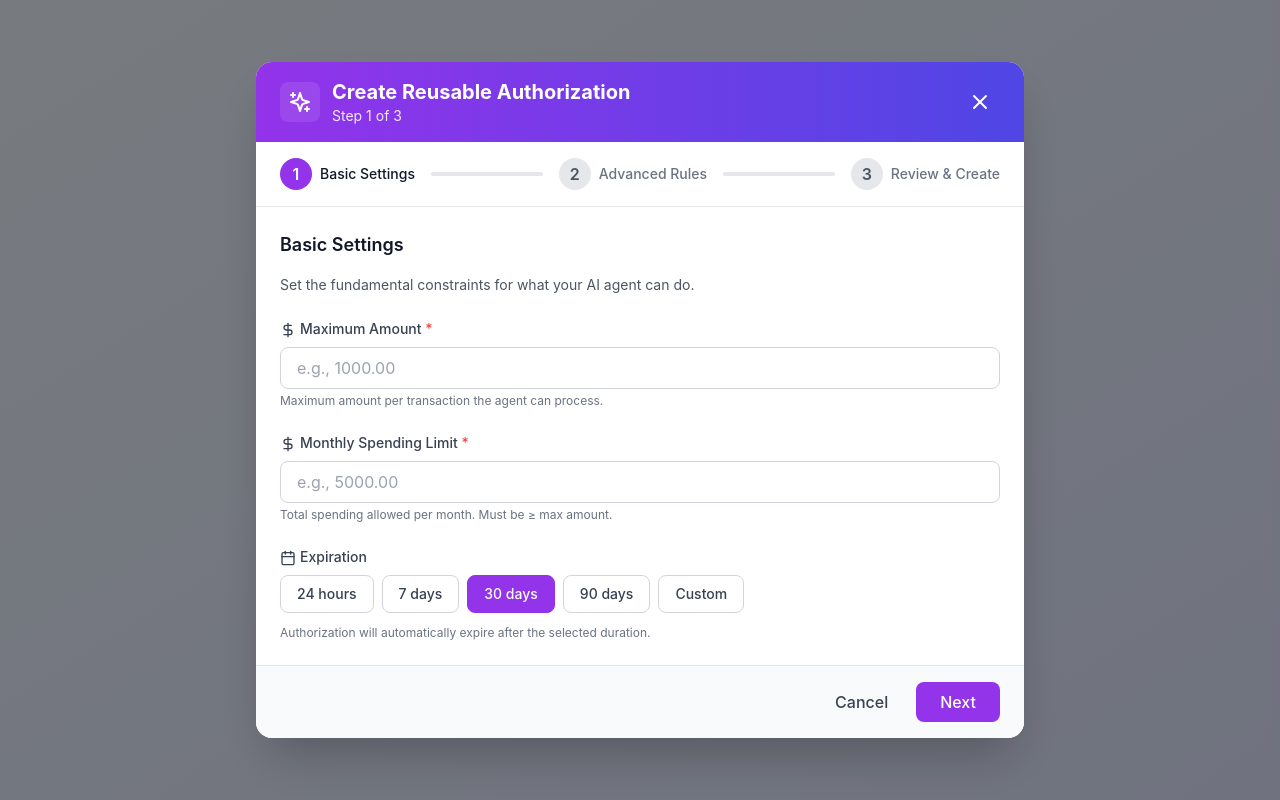
Scenario: AP2 Components › ConstraintBuilder › should allow adding merchants
# Fill required fields before navigating
In the number field with placeholder "e.g., 1000.00": x=640, y=368 [280,347,1000,389], type "500"
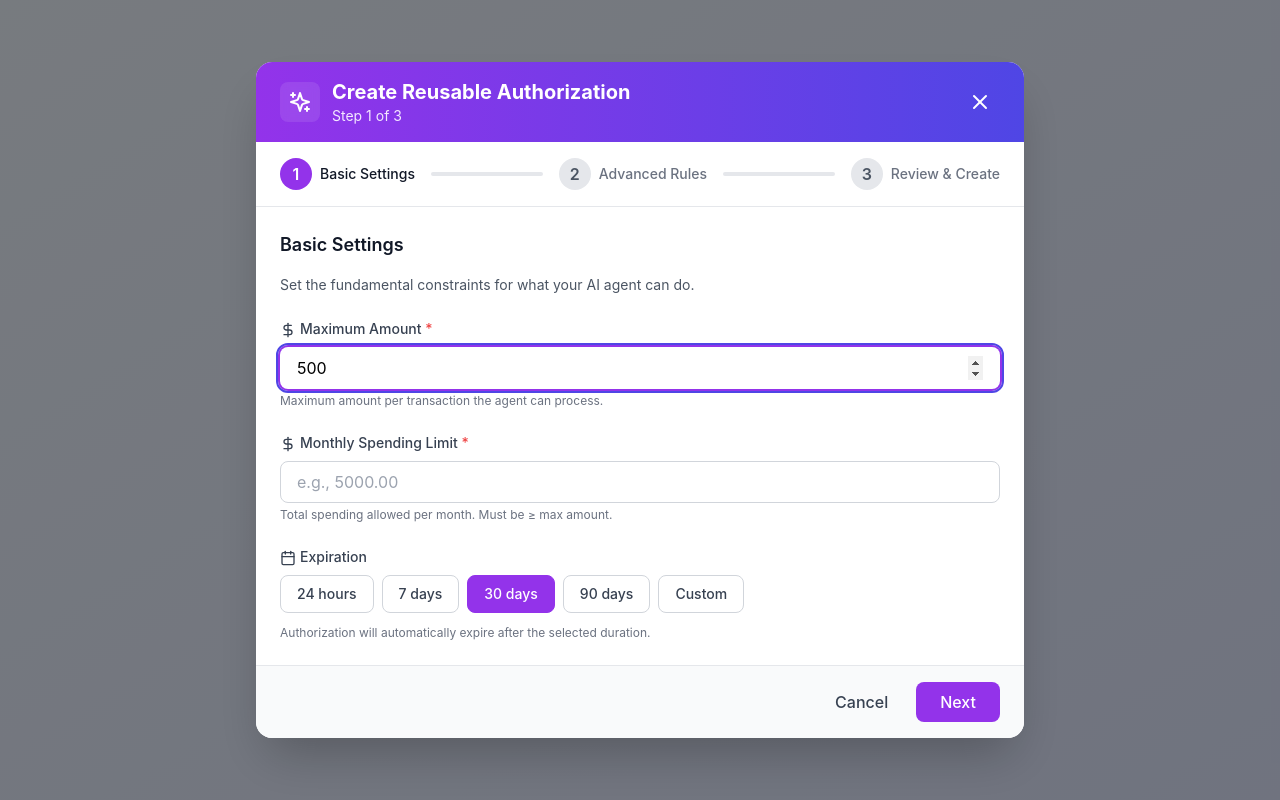
In the number field with placeholder "e.g., 5000.00": x=640, y=482 [280,461,1000,503], type "5000"
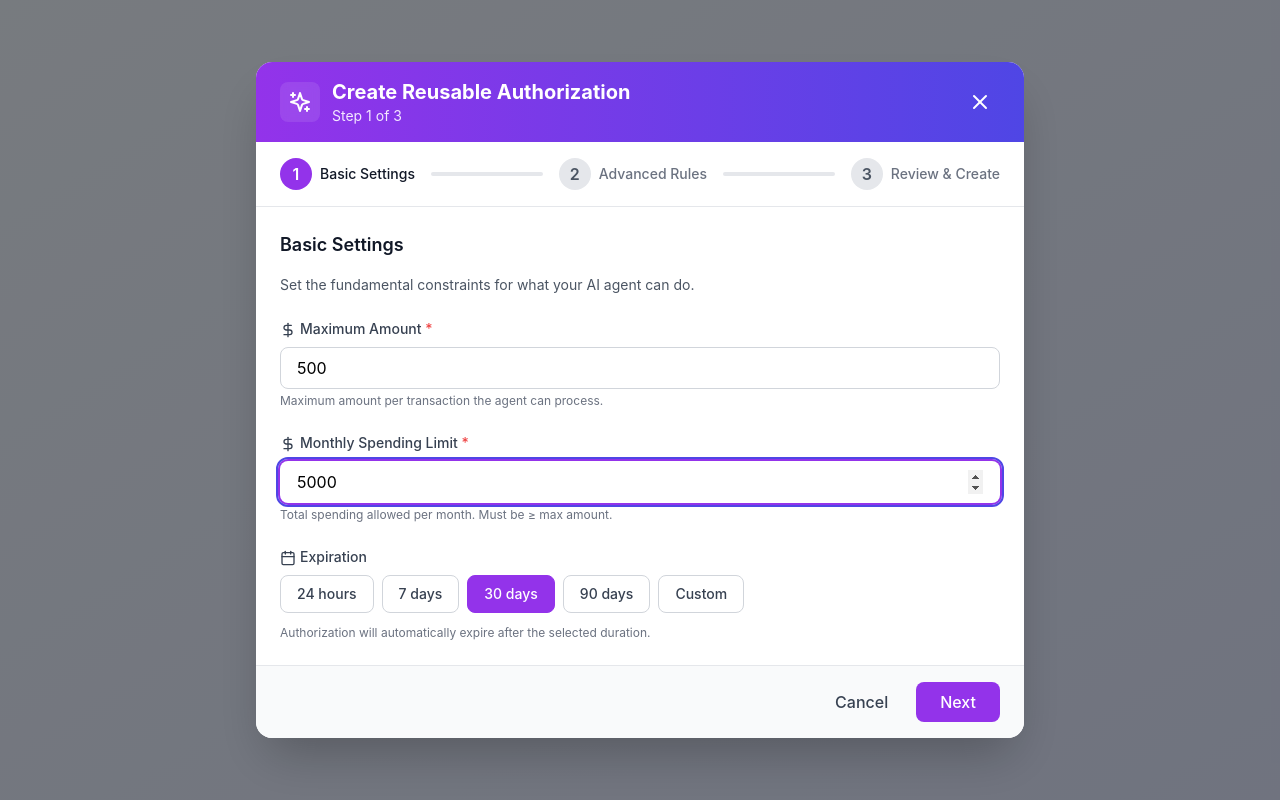
# Navigate to Step 2 (Advanced Rules)
Click the button "Next": x=958, y=702 [916,682,1000,722]
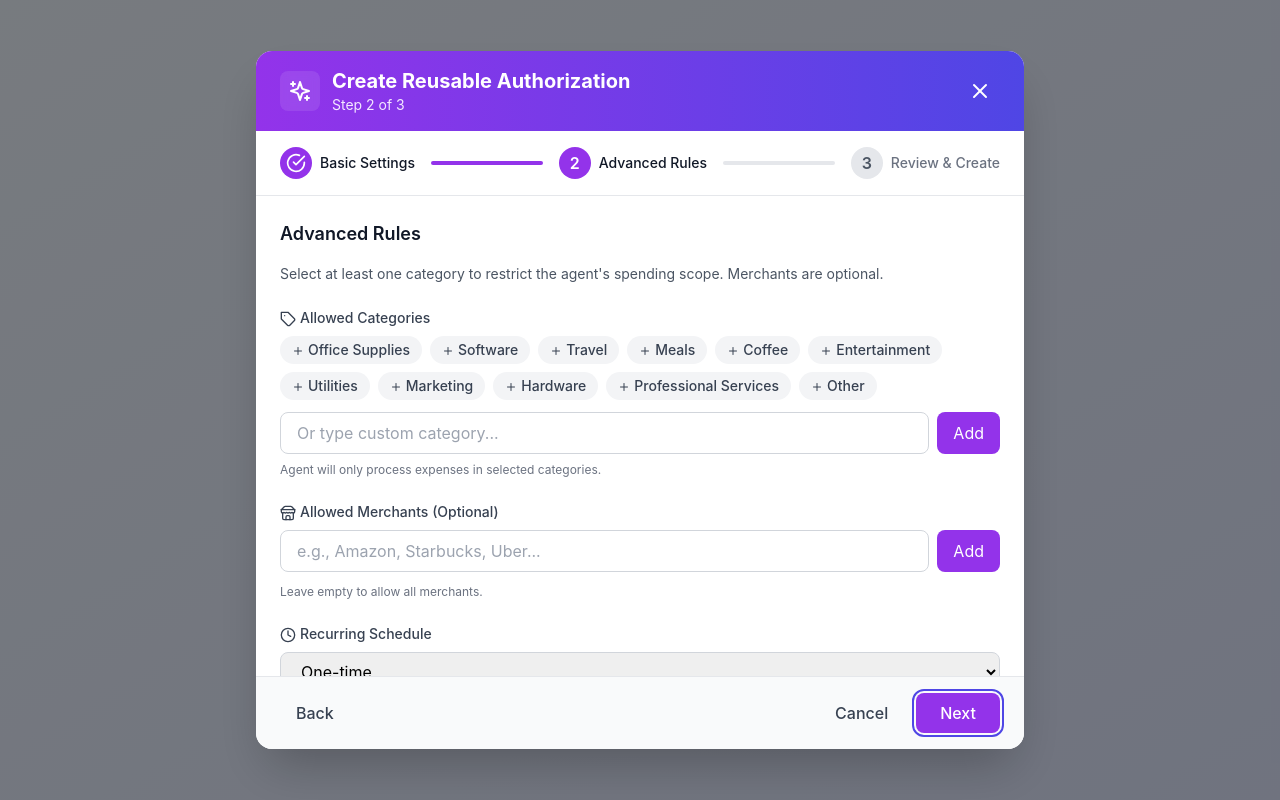
# Find and fill merchant input
In the field with placeholder "e.g., Amazon, Starbucks, Uber...": x=605, y=551 [280,530,929,572], type "Starbucks"
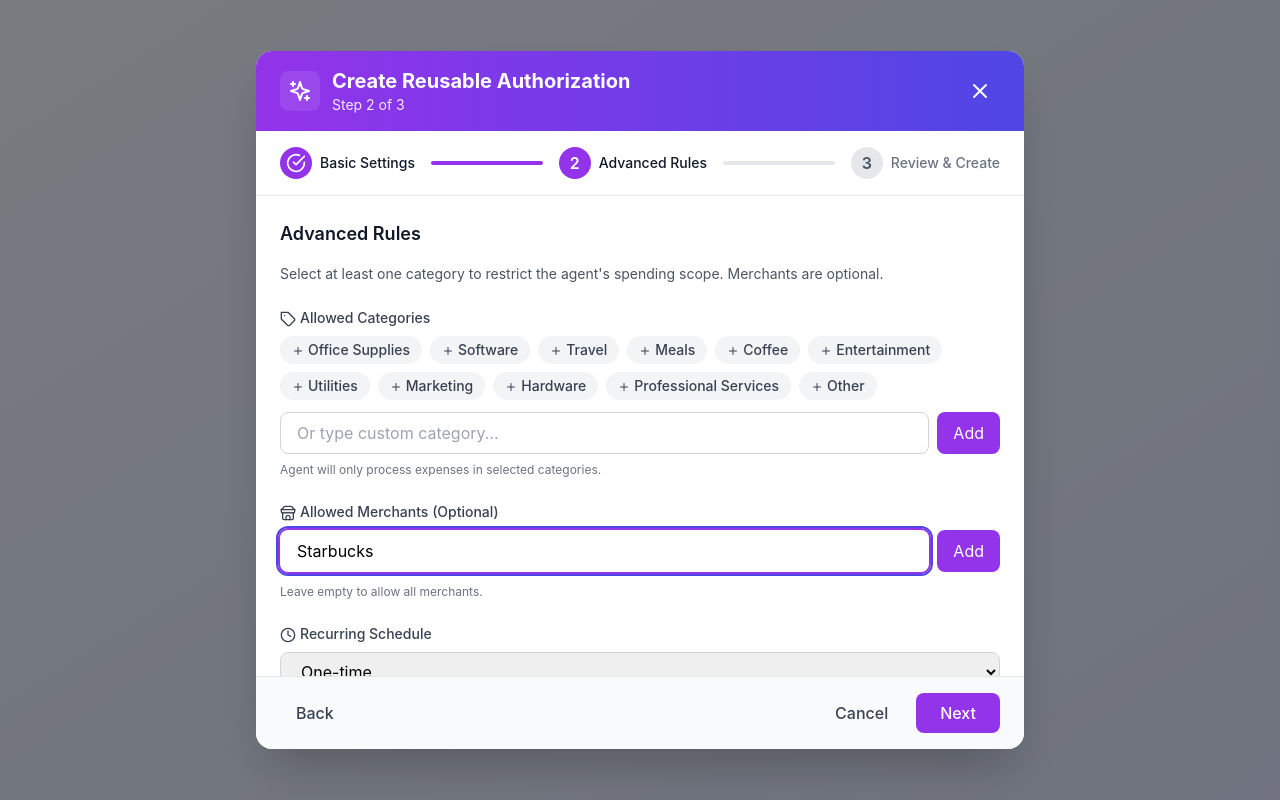
# Find and click the Add button next to merchant input
Click the 2nd button "Add": x=969, y=551 [937,530,1000,572]
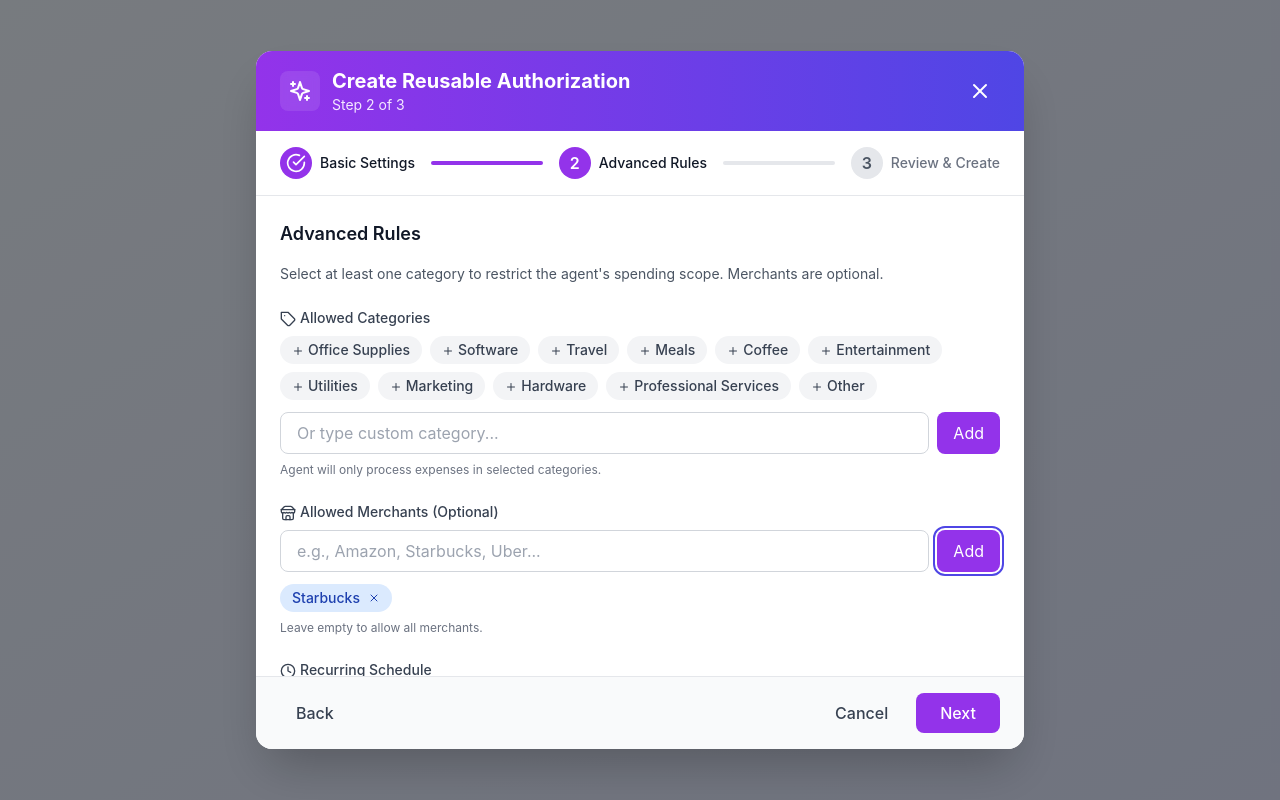
Expected: the text "Starbucks" is shown, [280,584,392,612]
